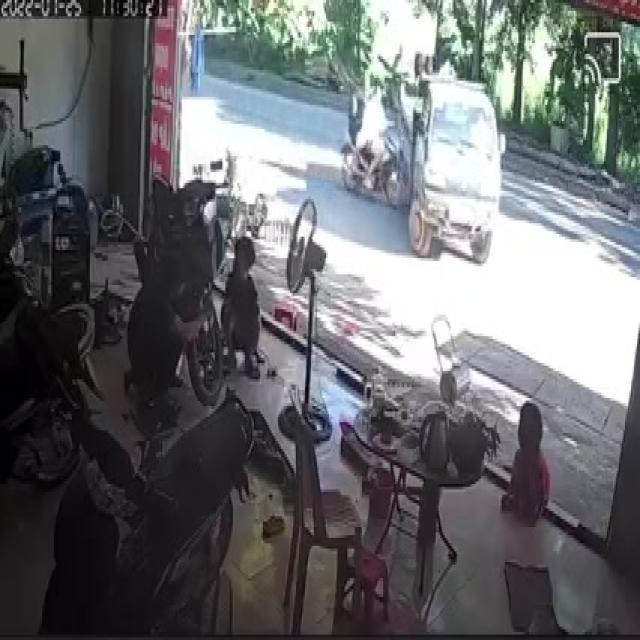multiple_accident: (343, 59, 504, 276)
